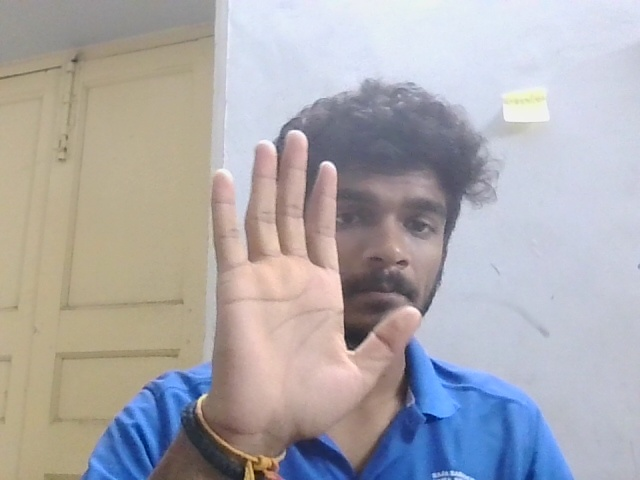Hello: (202, 123, 424, 438)
